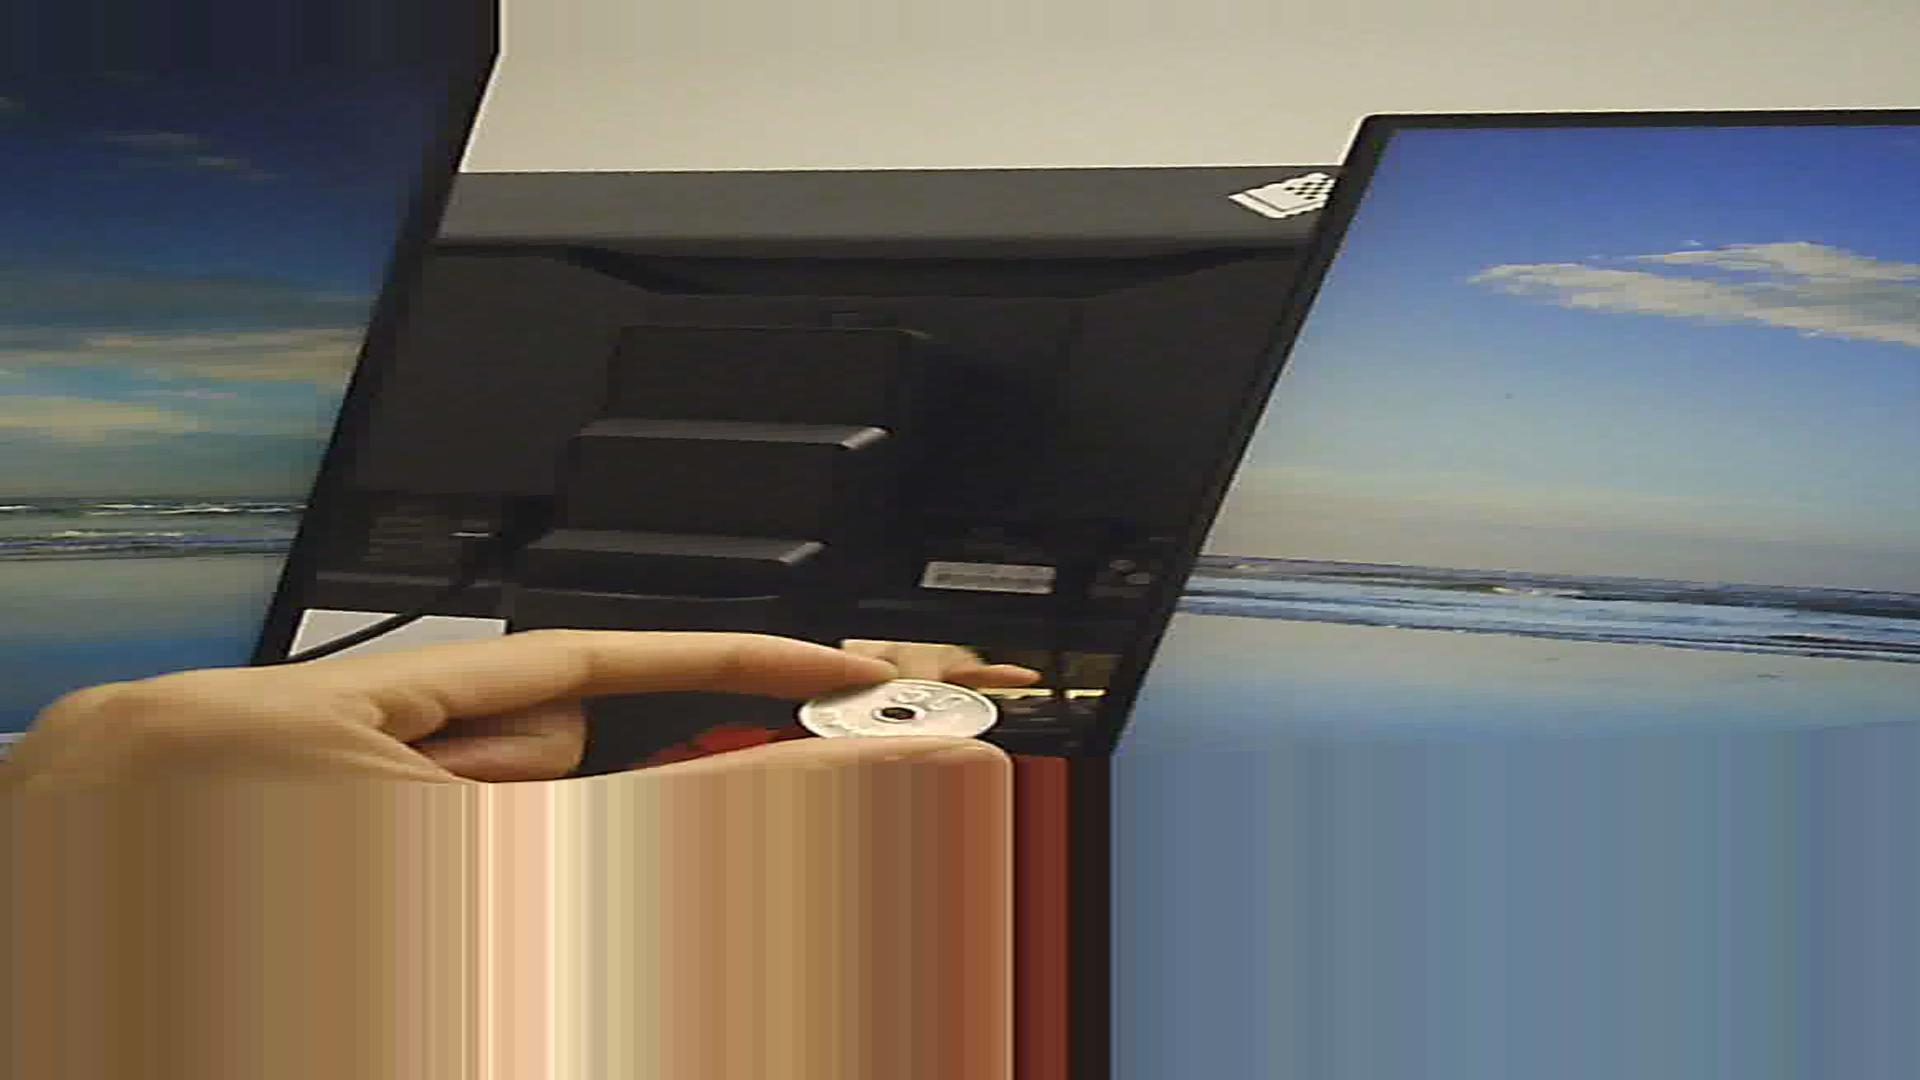50 Yen: (789, 669, 1017, 756)
